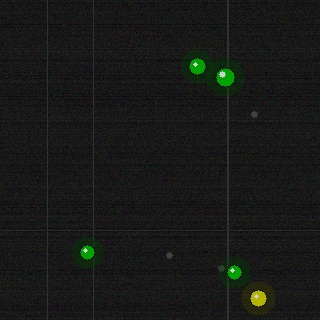green_normal: (214, 66, 236, 88), (187, 56, 207, 76), (78, 243, 96, 261), (225, 263, 243, 281)
yellow_warning: (248, 288, 268, 308)
